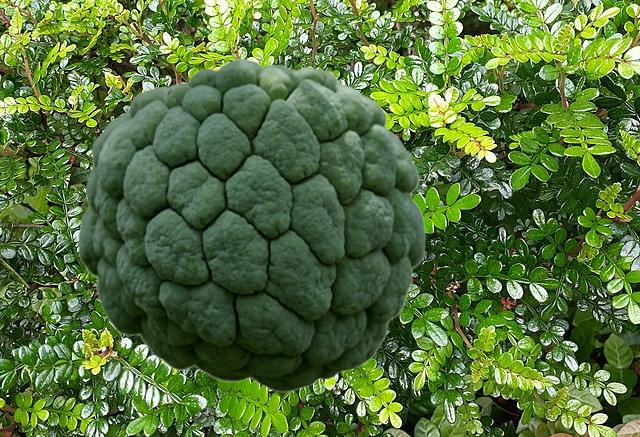atis: (77, 58, 425, 392)
